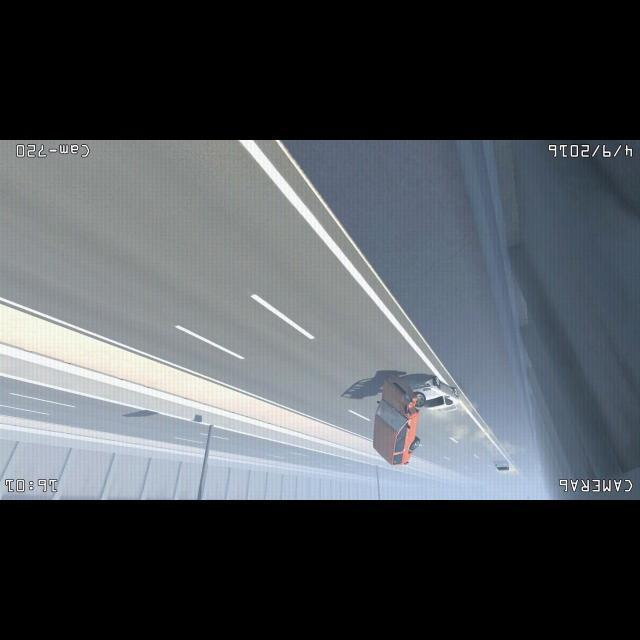severe: (370, 374, 460, 470)
